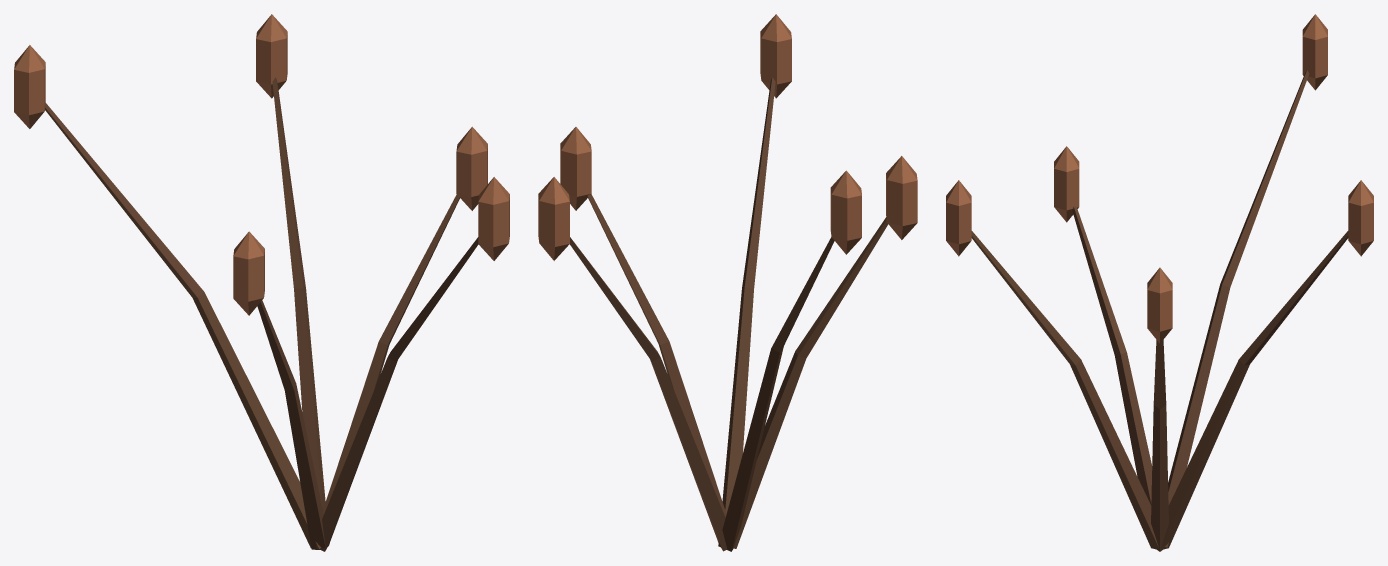
Rendered from Plant_Feature_Desert_OcotilloFan_001_LOD1.glb.
3 views of the same model, side by side, from view 1: azimuth 30°, elevation 25°; view 2: azimuth 150°, elevation 25°; view 3: azimuth 270°, elevation 25° (orthographic). The views are drawn at different scales.
Parts seen in each view (by area): view 1: Plant_Feature_Desert_OcotilloFan_001_LOD1; view 2: Plant_Feature_Desert_OcotilloFan_001_LOD1; view 3: Plant_Feature_Desert_OcotilloFan_001_LOD1.
Part boxes in pixels (x1=…): Plant_Feature_Desert_OcotilloFan_001_LOD1: x1=14, y1=14, x2=509, y2=551; Plant_Feature_Desert_OcotilloFan_001_LOD1: x1=538, y1=14, x2=917, y2=551; Plant_Feature_Desert_OcotilloFan_001_LOD1: x1=946, y1=14, x2=1373, y2=551.
Size of the model in its own units: 1.92 by 2.32 by 2.02.
